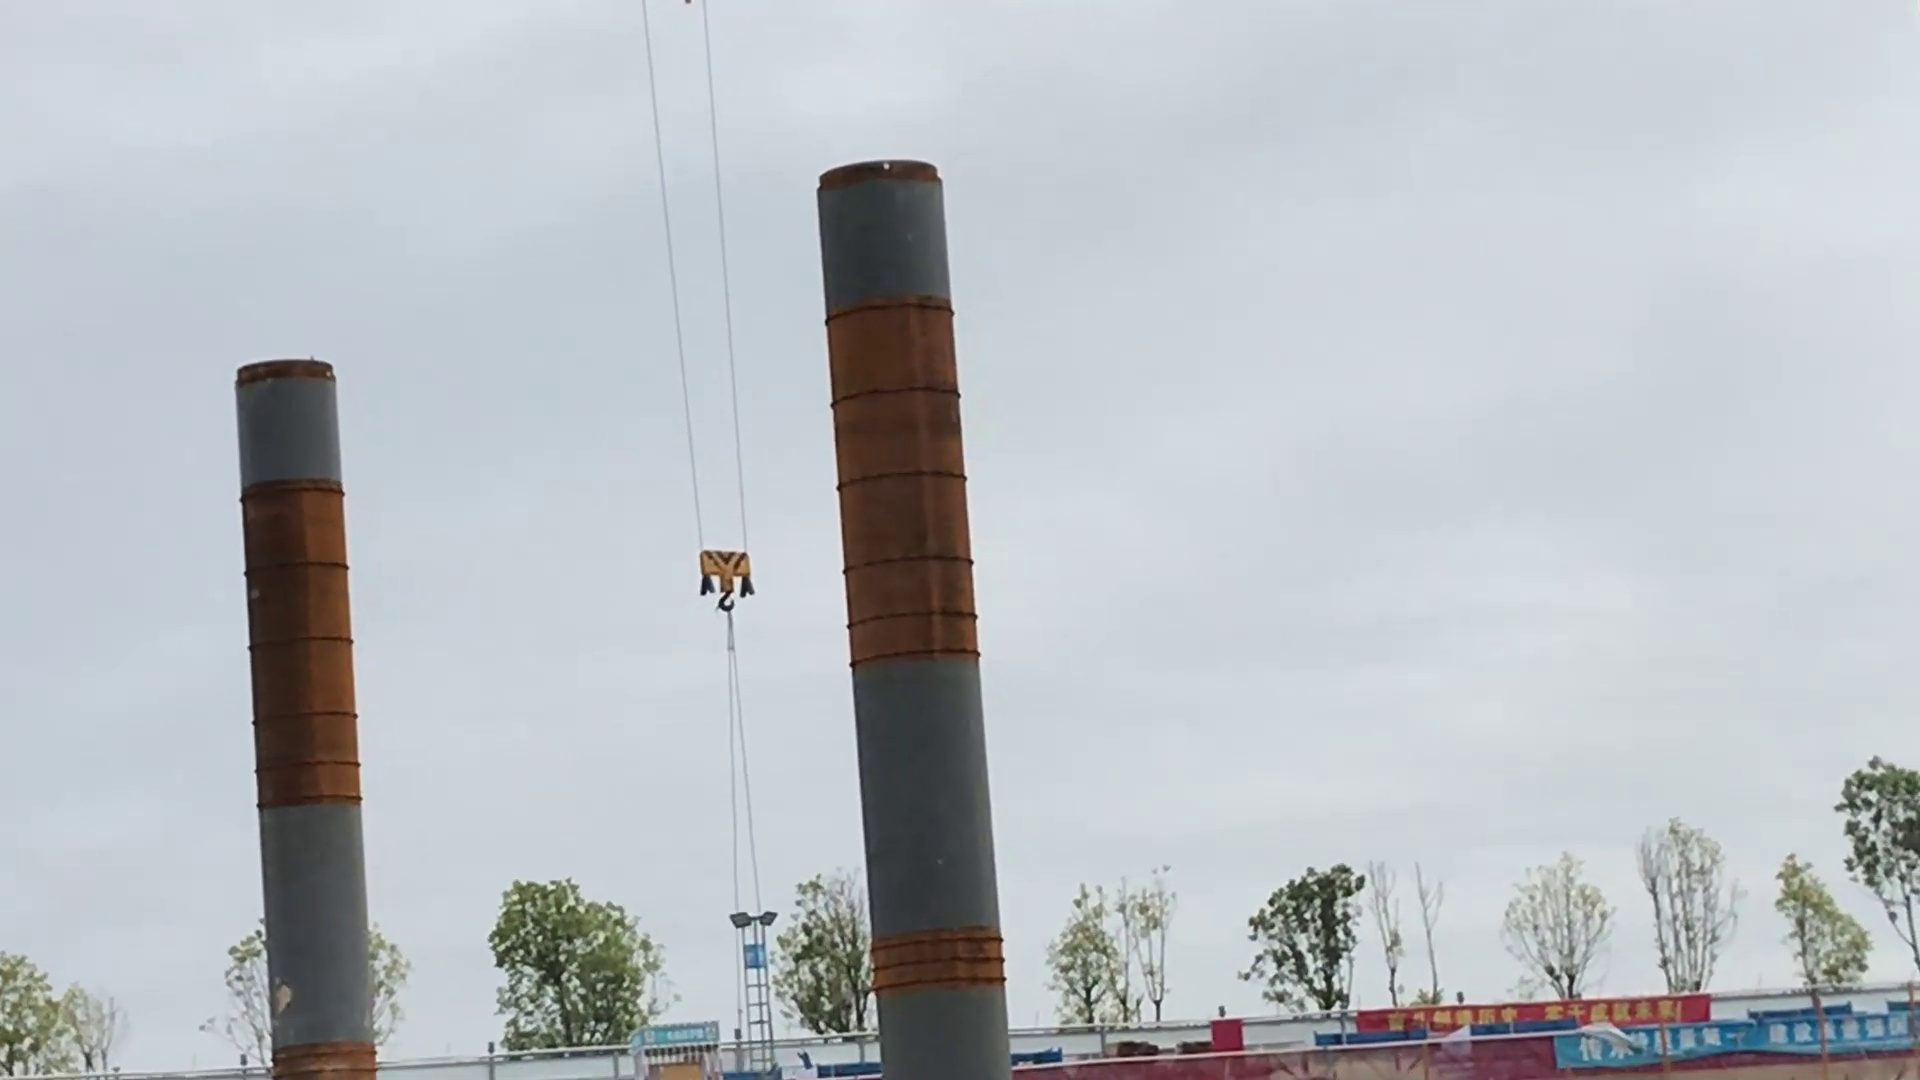hook: (694, 545, 760, 615)
slogan: (1557, 1009, 1920, 1073), (1360, 996, 1712, 1036)
